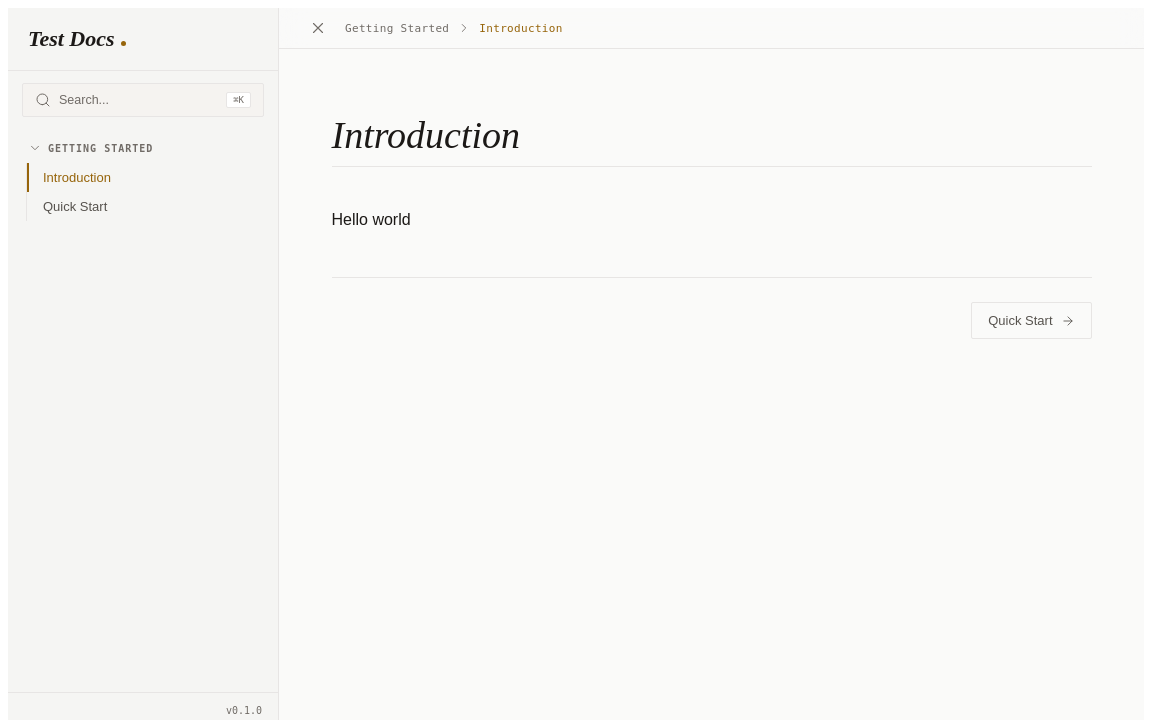
Shell search › matches pages by description
Press k
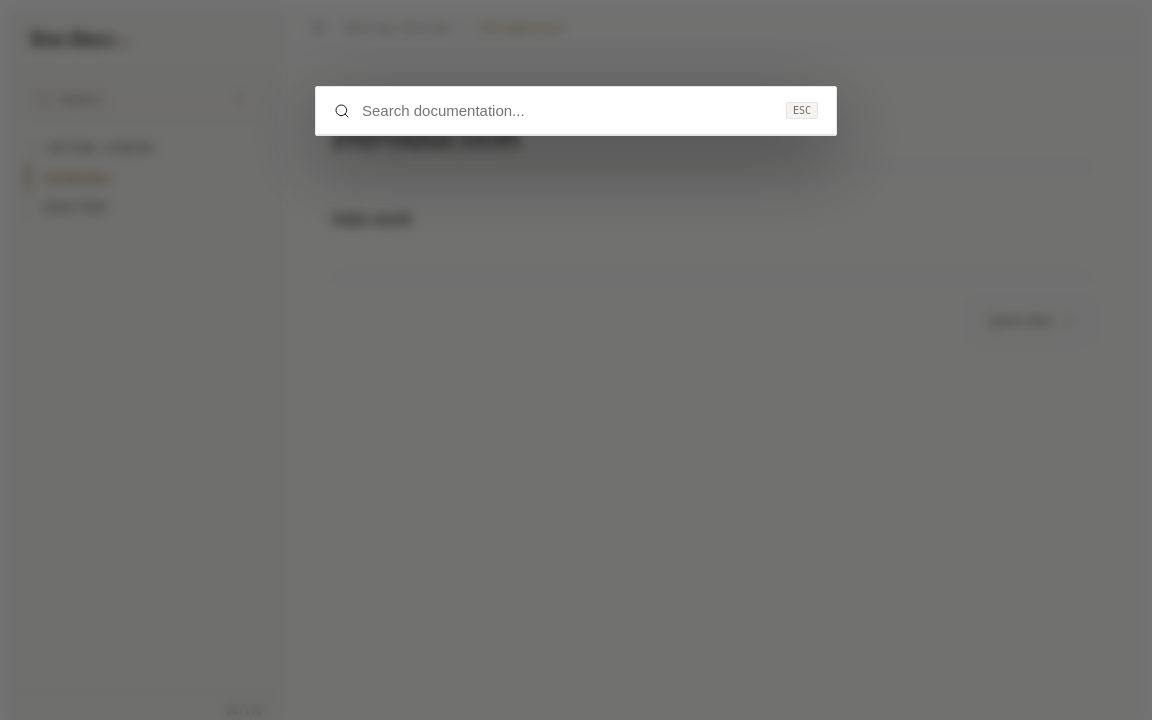
Type "Complete API" into the field with placeholder "Search documentation...". click: point(568, 111)
box: [360,101,776,120]
Wait 150 ms
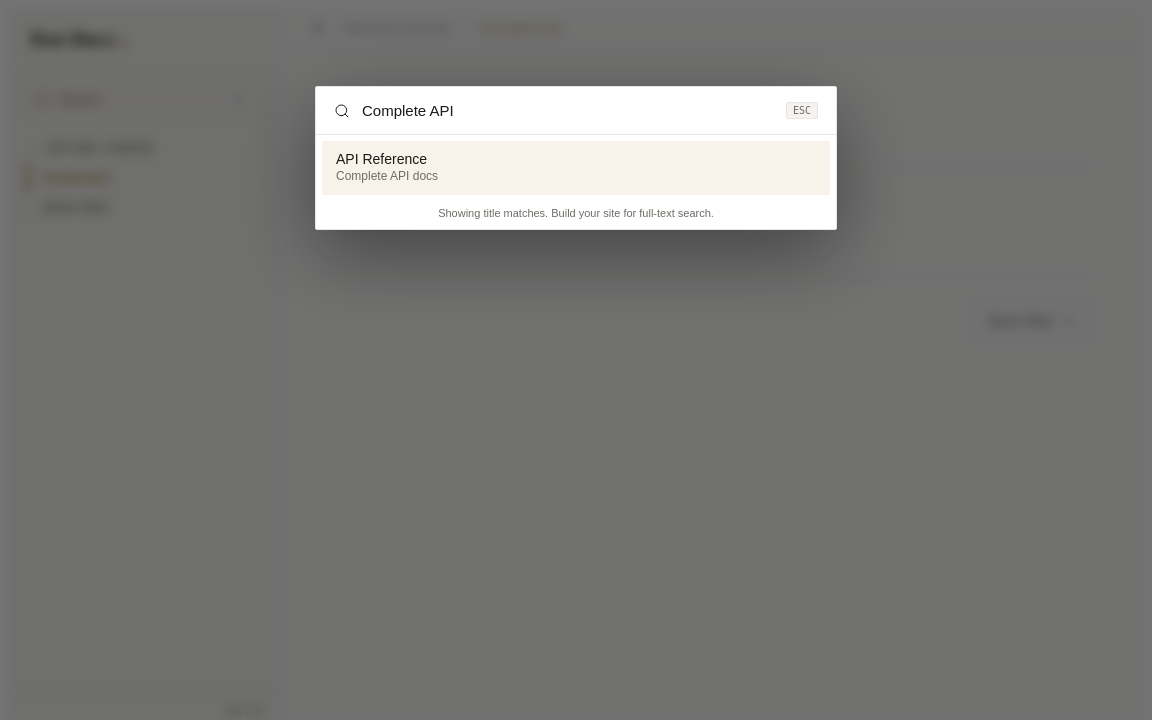
Expected: the text "API Reference" is shown, [336,151,427,167]
